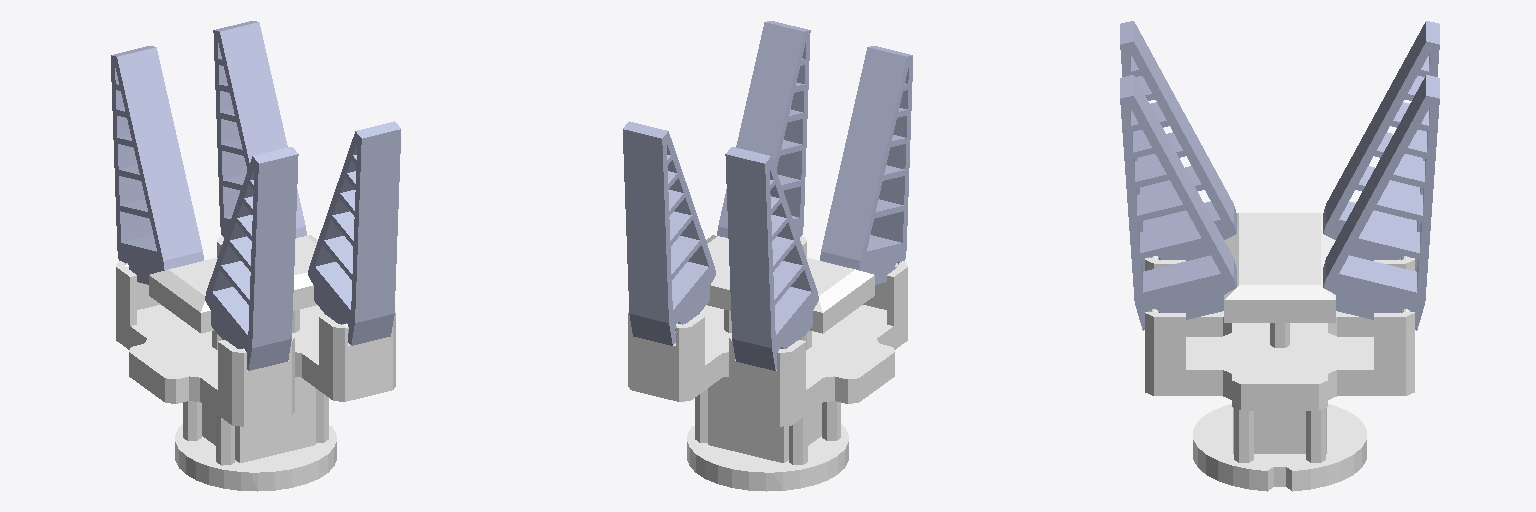
The robot description file, URDF, robot "finray4f":
<?xml version="1.0"?>
<!-- This URDF was automatically created by SolidWorks to URDF Exporter! Originally created by [author] ([email redacted]) 
     Commit Version: 1.6.0-4-g7f85cfe  Build Version: 1.6.7995.38578
     For more information, please see http://wiki.ros.org/sw_urdf_exporter -->
<robot
  name="finray4f">
  <link
    name="base_link">
    <inertial>
      <origin
        xyz="-4.34255344221477E-05 1.14505323746289E-10 -0.0494304393445056"
        rpy="0 0 0" />
      <mass
        value="0.352828317730425" />
      <inertia
        ixx="0.00052242672772085"
        ixy="9.52997184603159E-13"
        ixz="-7.13529739645678E-07"
        iyy="0.000524104246533891"
        iyz="-4.58258088006933E-13"
        izz="0.00048112863633033" />
    </inertial>
    <visual>
      <origin
        xyz="0 0 0"
        rpy="0 0 0" />
      <geometry>
        <mesh
          filename="../meshes/base_link.STL" />
      </geometry>
      <material
        name="">
        <color
          rgba="1 1 1 1" />
      </material>
    </visual>
    <collision>
      <origin
        xyz="0 0 0"
        rpy="0 0 0" />
      <geometry>
        <mesh
          filename="../meshes/base_link.STL" />
      </geometry>
    </collision>
  </link>
  <link
    name="finger_1_link">
    <inertial>
      <origin
        xyz="-0.0162513374296875 0.0332329409106121 6.93889390390723E-18"
        rpy="0 0 0" />
      <mass
        value="0.039598178880459" />
      <inertia
        ixx="4.51742161883229E-05"
        ixy="-3.30756315047277E-07"
        ixz="6.55015336691942E-22"
        iyy="7.20607530272732E-06"
        iyz="-1.06859599024752E-21"
        izz="4.91860383946932E-05" />
    </inertial>
    <visual>
      <origin
        xyz="0 0 0"
        rpy="0 0 0" />
      <geometry>
        <mesh
          filename="../meshes/finger_1_link.STL" />
      </geometry>
      <material
        name="">
        <color
          rgba="0.792156862745098 0.819607843137255 0.933333333333333 1" />
      </material>
    </visual>
    <collision>
      <origin
        xyz="0 0 0"
        rpy="0 0 0" />
      <geometry>
        <mesh
          filename="../meshes/finger_1_link.STL" />
      </geometry>
    </collision>
  </link>
  <joint
    name="finger_1_joint"
    type="revolute">
    <origin
      xyz="0.0285 -0.056 -0.014"
      rpy="1.5708 0.2618 -1.5708" />
    <parent
      link="base_link" />
    <child
      link="finger_1_link" />
    <axis
      xyz="0 0 1" />
    <limit
      lower="0"
      upper="0.785"
      effort="0.785"
      velocity="0.785" />
  </joint>
  <link
    name="finger_2_link">
    <inertial>
      <origin
        xyz="-0.0162513374296876 0.0332329409106121 1.38777878078145E-17"
        rpy="0 0 0" />
      <mass
        value="0.039598178880459" />
      <inertia
        ixx="4.51742161883229E-05"
        ixy="-3.30756315047278E-07"
        ixz="5.27126187276152E-22"
        iyy="7.20607530272733E-06"
        iyz="8.47906632798546E-21"
        izz="4.91860383946932E-05" />
    </inertial>
    <visual>
      <origin
        xyz="0 0 0"
        rpy="0 0 0" />
      <geometry>
        <mesh
          filename="../meshes/finger_2_link.STL" />
      </geometry>
      <material
        name="">
        <color
          rgba="0.792156862745098 0.819607843137255 0.933333333333333 1" />
      </material>
    </visual>
    <collision>
      <origin
        xyz="0 0 0"
        rpy="0 0 0" />
      <geometry>
        <mesh
          filename="../meshes/finger_2_link.STL" />
      </geometry>
    </collision>
  </link>
  <joint
    name="finger_2_joint"
    type="revolute">
    <origin
      xyz="-0.0285 -0.056 -0.014"
      rpy="1.5708 0.2618 -1.5708" />
    <parent
      link="base_link" />
    <child
      link="finger_2_link" />
    <axis
      xyz="0 0 1" />
    <limit
      lower="0"
      upper="0.785"
      effort="0.785"
      velocity="0.785" />
  </joint>
  <link
    name="finger_3_link">
    <inertial>
      <origin
        xyz="-0.0162513374296875 0.0332329409106121 -1.38777878078145E-17"
        rpy="0 0 0" />
      <mass
        value="0.0395981788804589" />
      <inertia
        ixx="4.51742161883228E-05"
        ixy="-3.30756315047272E-07"
        ixz="1.33142199647402E-21"
        iyy="7.20607530272731E-06"
        iyz="-9.33604566666904E-21"
        izz="4.91860383946931E-05" />
    </inertial>
    <visual>
      <origin
        xyz="0 0 0"
        rpy="0 0 0" />
      <geometry>
        <mesh
          filename="../meshes/finger_3_link.STL" />
      </geometry>
      <material
        name="">
        <color
          rgba="0.792156862745098 0.819607843137255 0.933333333333333 1" />
      </material>
    </visual>
    <collision>
      <origin
        xyz="0 0 0"
        rpy="0 0 0" />
      <geometry>
        <mesh
          filename="../meshes/finger_3_link.STL" />
      </geometry>
    </collision>
  </link>
  <joint
    name="finger_3_joint"
    type="revolute">
    <origin
      xyz="-0.0285 0.056 -0.014"
      rpy="1.5708 0.2618 1.5708" />
    <parent
      link="base_link" />
    <child
      link="finger_3_link" />
    <axis
      xyz="0 0 1" />
    <limit
      lower="0"
      upper="0.785"
      effort="0.785"
      velocity="0.785" />
  </joint>
  <link
    name="finger_4_link">
    <inertial>
      <origin
        xyz="-0.00709626850263999 0.0363067115442894 3.46944695195361E-18"
        rpy="0 0 0" />
      <mass
        value="0.039598178880459" />
      <inertia
        ixx="4.24654548586975E-05"
        ixy="-9.77847859269221E-06"
        ixz="-9.12325982237821E-22"
        iyy="9.91483663235272E-06"
        iyz="-3.0975558697876E-21"
        izz="4.91860383946932E-05" />
    </inertial>
    <visual>
      <origin
        xyz="0 0 0"
        rpy="0 0 0" />
      <geometry>
        <mesh
          filename="../meshes/finger_4_link.STL" />
      </geometry>
      <material
        name="">
        <color
          rgba="0.792156862745098 0.819607843137255 0.933333333333333 1" />
      </material>
    </visual>
    <collision>
      <origin
        xyz="0 0 0"
        rpy="0 0 0" />
      <geometry>
        <mesh
          filename="../meshes/finger_4_link.STL" />
      </geometry>
    </collision>
  </link>
  <joint
    name="finger_4_joint"
    type="revolute">
    <origin
      xyz="0.0285 0.056 -0.014"
      rpy="1.5708 0 1.5708" />
    <parent
      link="base_link" />
    <child
      link="finger_4_link" />
    <axis
      xyz="0 0 1" />
    <limit
      lower="0"
      upper="0.785"
      effort="0.785"
      velocity="0.785" />
  </joint>
</robot>

--- Render facts (derived) ---
Views: 3 orthographic renders of the robot side by side, from view 1: azimuth 30°, elevation 25°; view 2: azimuth 150°, elevation 25°; view 3: azimuth 270°, elevation 25°.
Model finray4f with 5 links and 4 joints (4 revolute), rooted at base_link, posed every joint at zero.
Visible links, largest first — view 1: base_link, finger_3_link, finger_1_link, finger_2_link, finger_4_link; view 2: base_link, finger_2_link, finger_4_link, finger_3_link, finger_1_link; view 3: base_link, finger_1_link, finger_4_link, finger_2_link, finger_3_link.
Boxes of the visible links, x1,y1,x2,y2 form: base_link: (116,235,395,491); finger_3_link: (111,46,203,284); finger_1_link: (308,121,400,345); finger_2_link: (205,147,298,370); finger_4_link: (213,21,306,237); base_link: (628,235,907,491); finger_2_link: (820,46,912,284); finger_4_link: (623,121,715,345); finger_3_link: (725,147,818,370); finger_1_link: (717,21,810,237); base_link: (1145,213,1414,491); finger_1_link: (1120,75,1236,330); finger_4_link: (1323,75,1439,330); finger_2_link: (1120,21,1236,271); finger_3_link: (1323,21,1439,271).
Size in the robot's own frame: 0.1211 by 0.1424 by 0.195 metres.
Meshes: 5 distinct files referenced, 5 mesh visuals loaded (5 binary STL).
